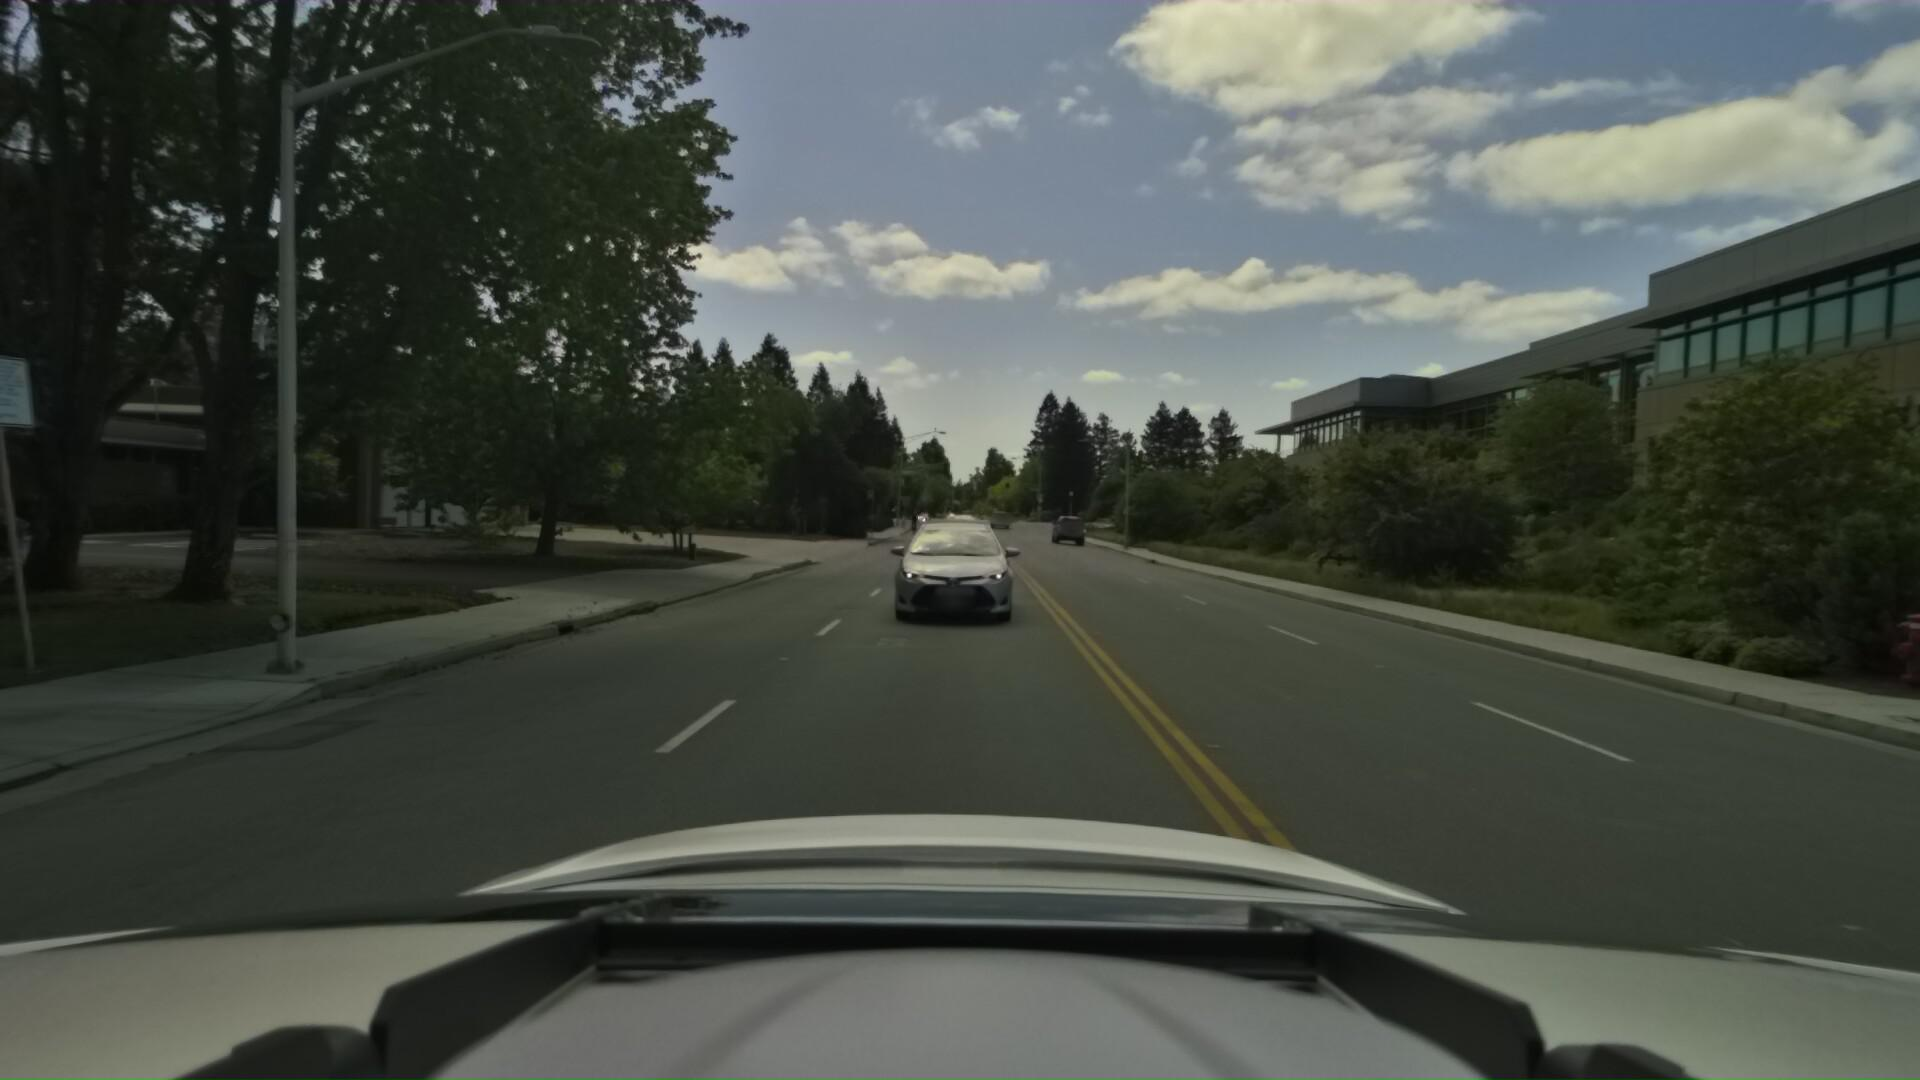bicycle: (906, 506, 918, 531)
car: (878, 509, 1011, 628), (1048, 512, 1089, 542)
